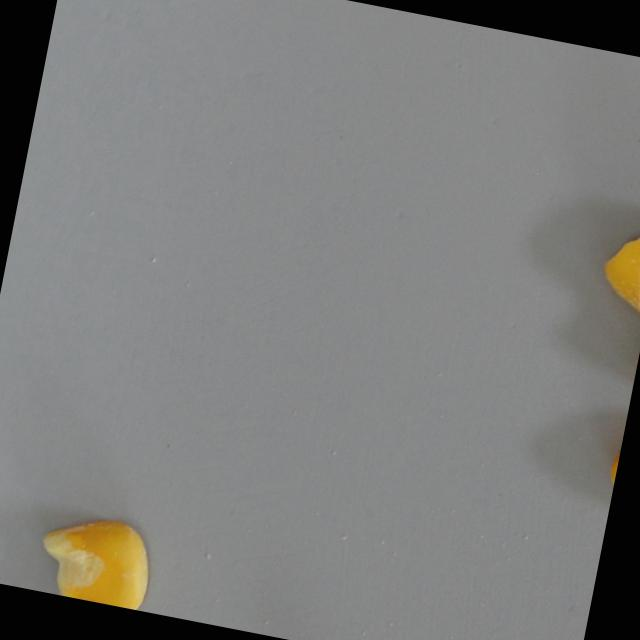dañado: (26, 500, 162, 612), (591, 200, 640, 322), (596, 407, 629, 515)
